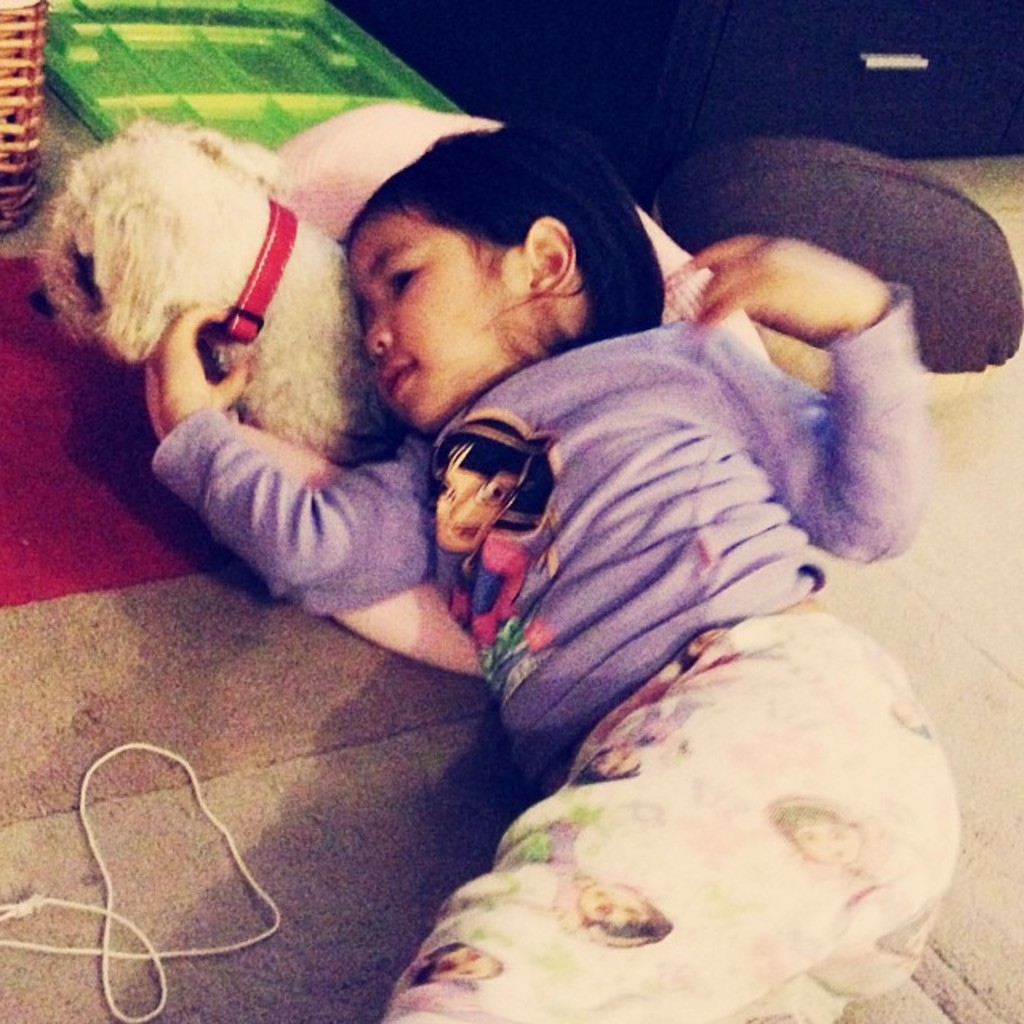Human_hand: (664, 224, 891, 333), (137, 296, 250, 434)
